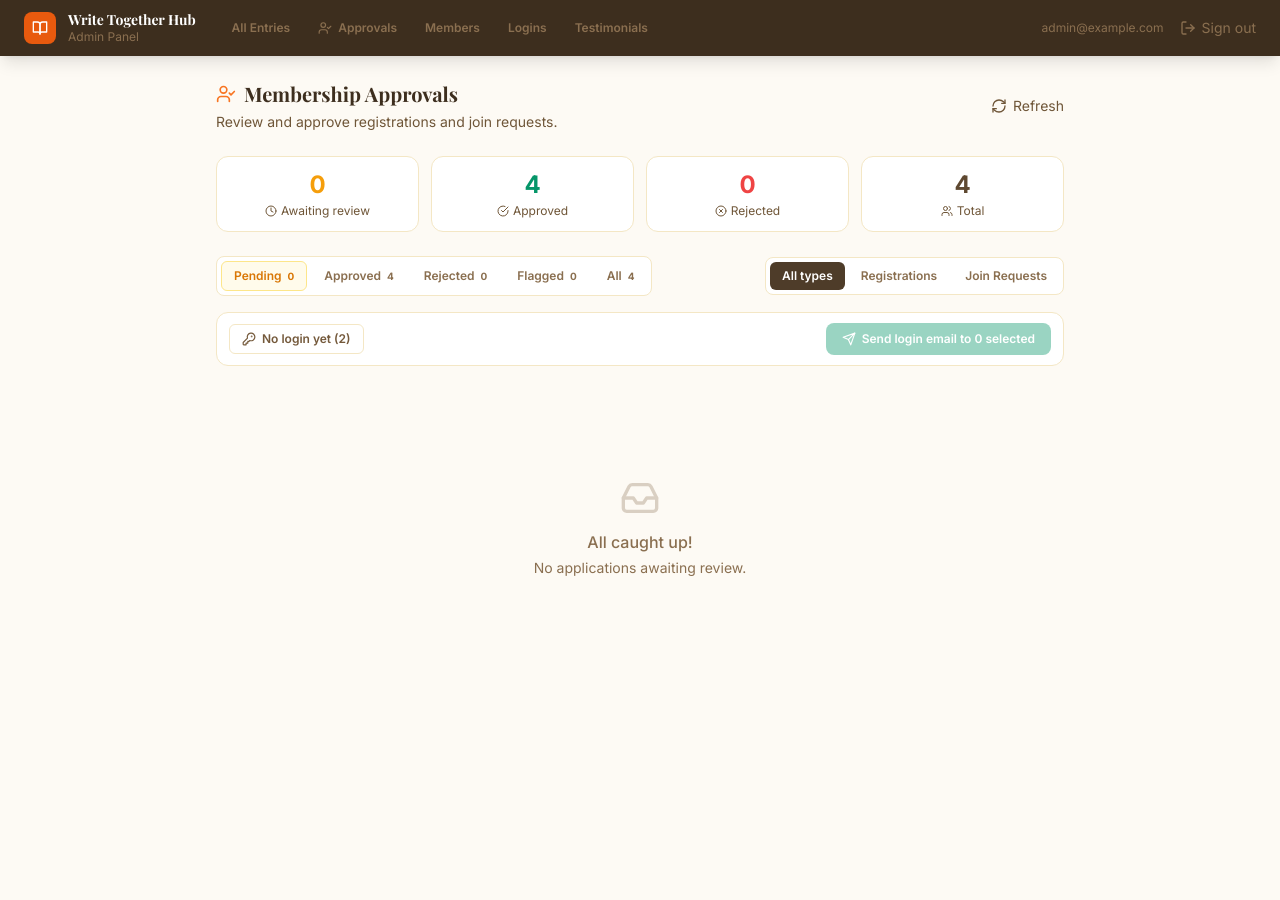
Scenario: AdminApprovals send login emails › marks approved people who have no login yet
Click the button "Approved 4": [359, 276] box 311,261 -> 407,291
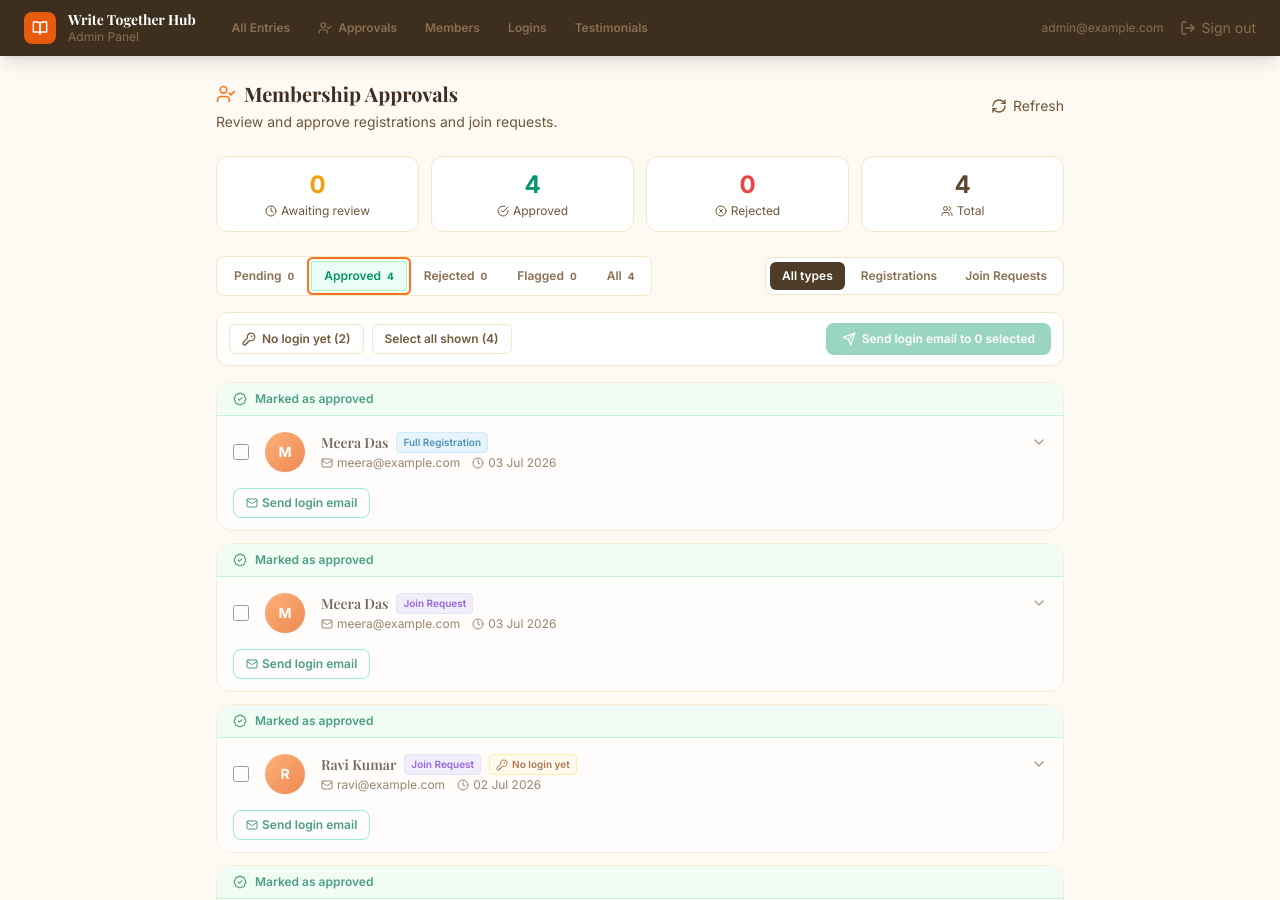
Expected: the button "No login yet (2)" is shown, 229,324 -> 364,354
Expected: the text "No login yet" is shown 2 times
